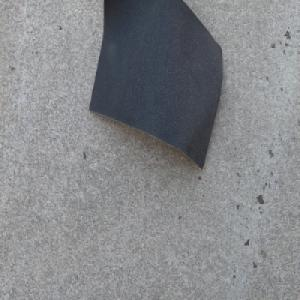PaintChip: (89, 0, 223, 171)
